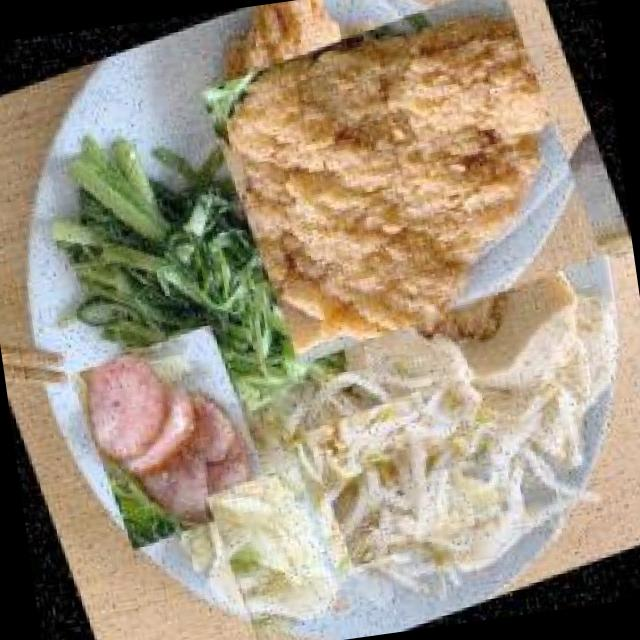chinese_cabbage: (192, 469, 362, 636)
chinese_sausage: (66, 317, 279, 556)
fried_chicken: (171, 0, 600, 394)
mung_bean_sprouts: (303, 368, 512, 576)
water_spinach: (23, 80, 312, 456)
